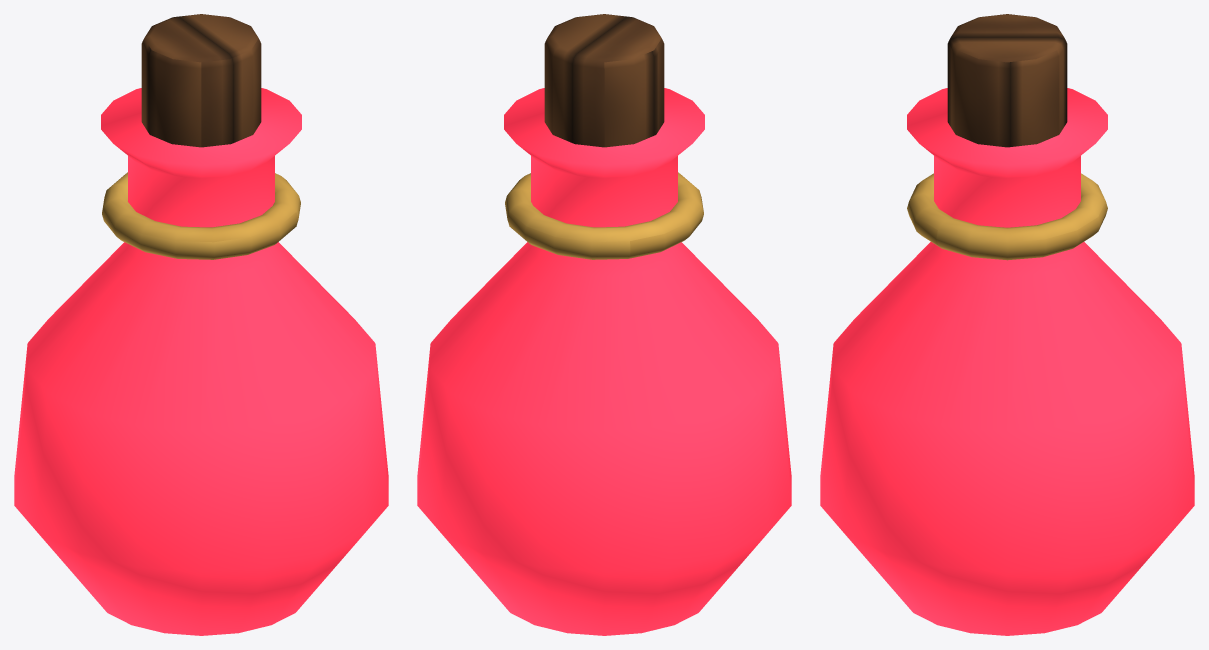
The model's file is health_potion.glb.
3 renders of one model, left to right at view 1: azimuth 30°, elevation 25°; view 2: azimuth 150°, elevation 25°; view 3: azimuth 270°, elevation 25°, orthographic.
Visible parts, largest first — view 1: Flask, Cork, NeckCollar; view 2: Flask, Cork, NeckCollar; view 3: Flask, Cork, NeckCollar.
Boxes of the visible parts, left/top/right/bottom form: Flask: left=14, top=88, right=388, bottom=635; Cork: left=141, top=14, right=261, bottom=147; NeckCollar: left=102, top=172, right=300, bottom=259; Flask: left=417, top=88, right=791, bottom=635; Cork: left=544, top=14, right=664, bottom=147; NeckCollar: left=505, top=172, right=703, bottom=259; Flask: left=820, top=88, right=1194, bottom=635; Cork: left=947, top=14, right=1067, bottom=147; NeckCollar: left=907, top=173, right=1107, bottom=260.
Size of the model in its own units: 0.28 by 0.45 by 0.2757.
Materials: 3 (2 with a texture image).
